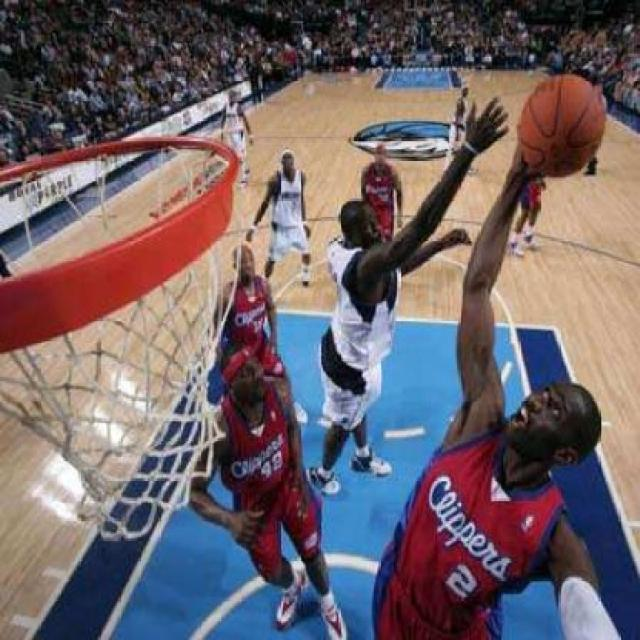basketball: (517, 71, 605, 177)
rim: (1, 128, 260, 538)
